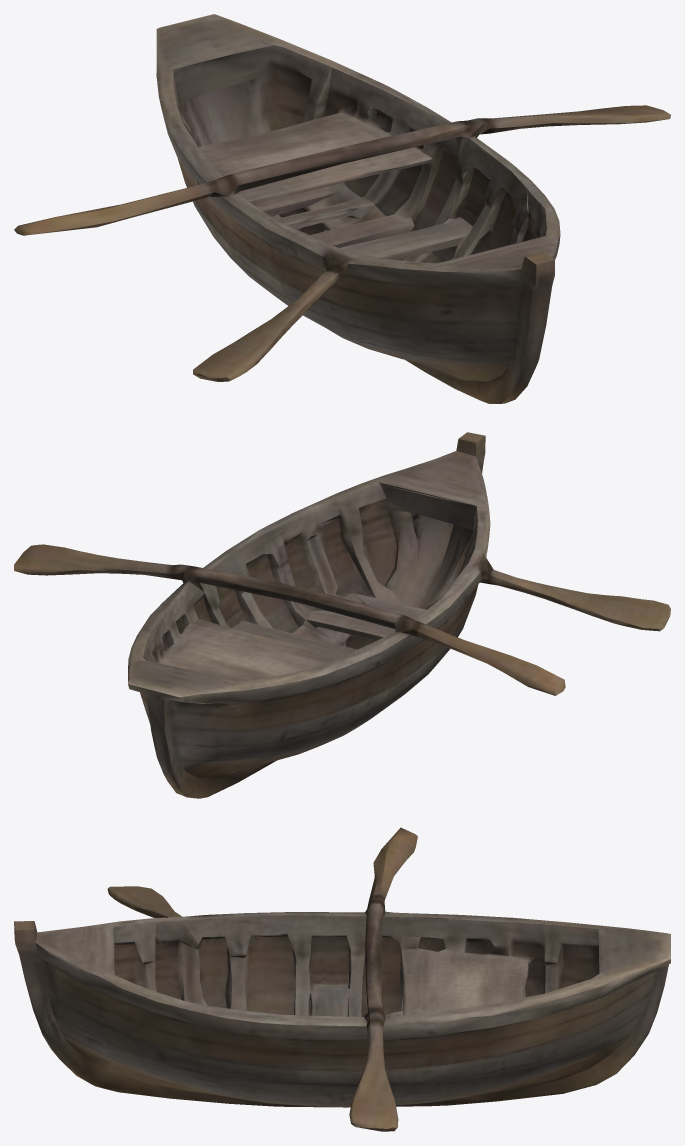
Rendered from rowboat.glb.
3 views of the same model, one above another, from view 1: azimuth 30°, elevation 25°; view 2: azimuth 150°, elevation 25°; view 3: azimuth 270°, elevation 25° (orthographic). The views are drawn at different scales.
Visible parts, largest first — view 1: rowboat; view 2: rowboat; view 3: rowboat.
Boxes of the visible parts, x1=… form: rowboat: x1=14, y1=14, x2=670, y2=403; rowboat: x1=14, y1=432, x2=670, y2=798; rowboat: x1=14, y1=827, x2=670, y2=1131.
Size of the model in its own units: 1.99 by 0.6 by 1.99.
1 material, 1 textured.
